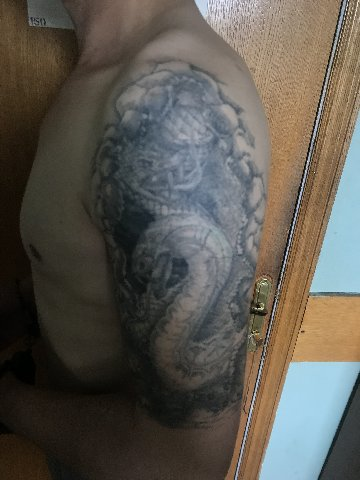tatu7_zmeya: (102, 82, 238, 405)
